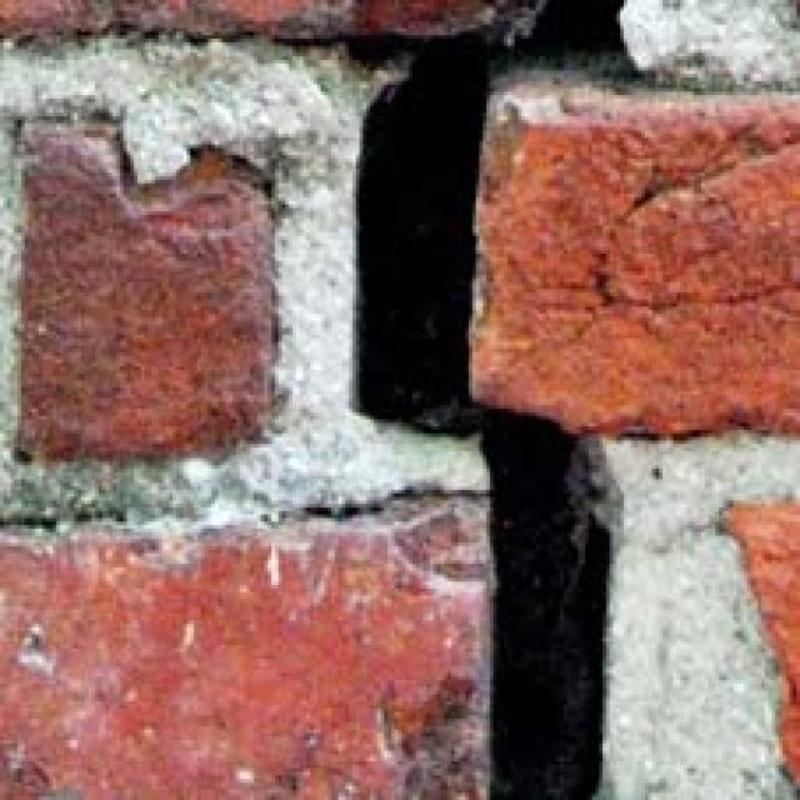pothole: (356, 0, 638, 799)
